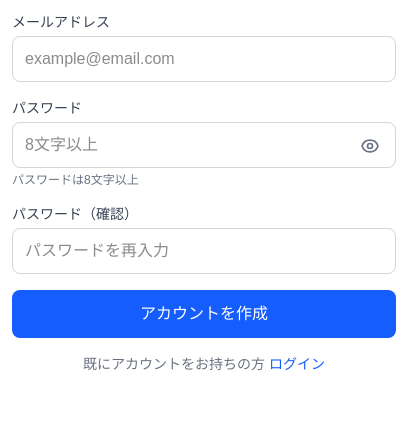
SignupForm › should show error when email is already registered
Type "test@example.com" into the field labelled "メールアドレス" at (204, 59), box [12,36,396,82]
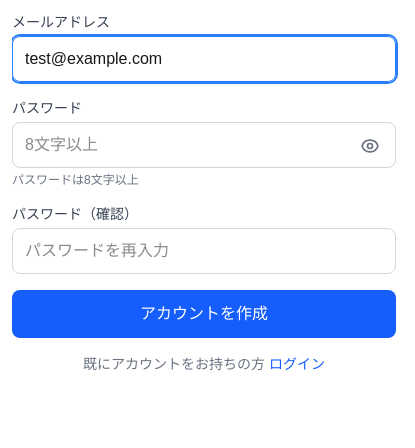
Type "password123" into the password field labelled "パスワード" at (204, 145), box [12,122,396,168]
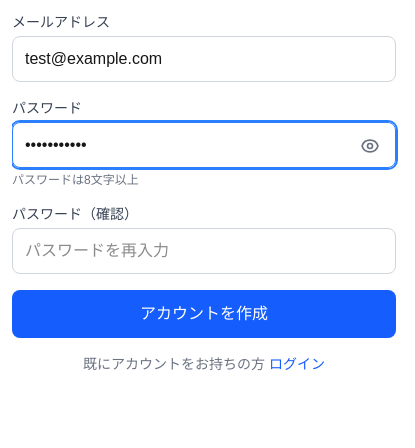
Type "password123" into the password field labelled "パスワード（確認）" at (204, 251), box [12,228,396,274]
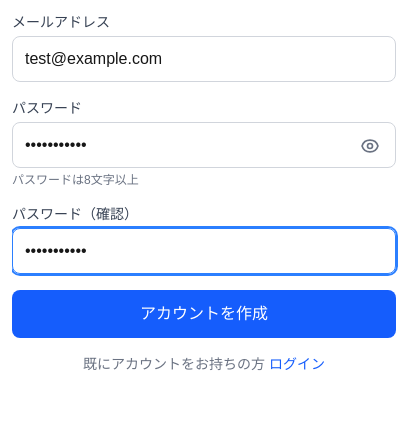
Click the button "アカウントを作成" at (204, 314), box [12,290,396,338]
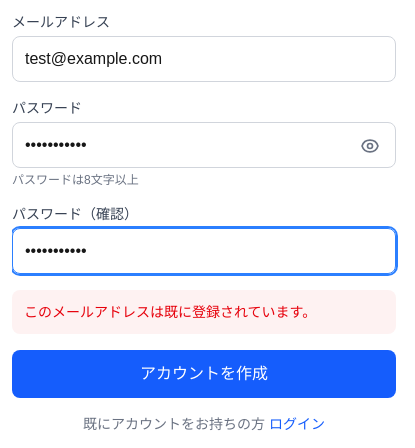
Expected: the text "このメールアドレスは既に登録されています。" is shown, [12,290,396,334]
